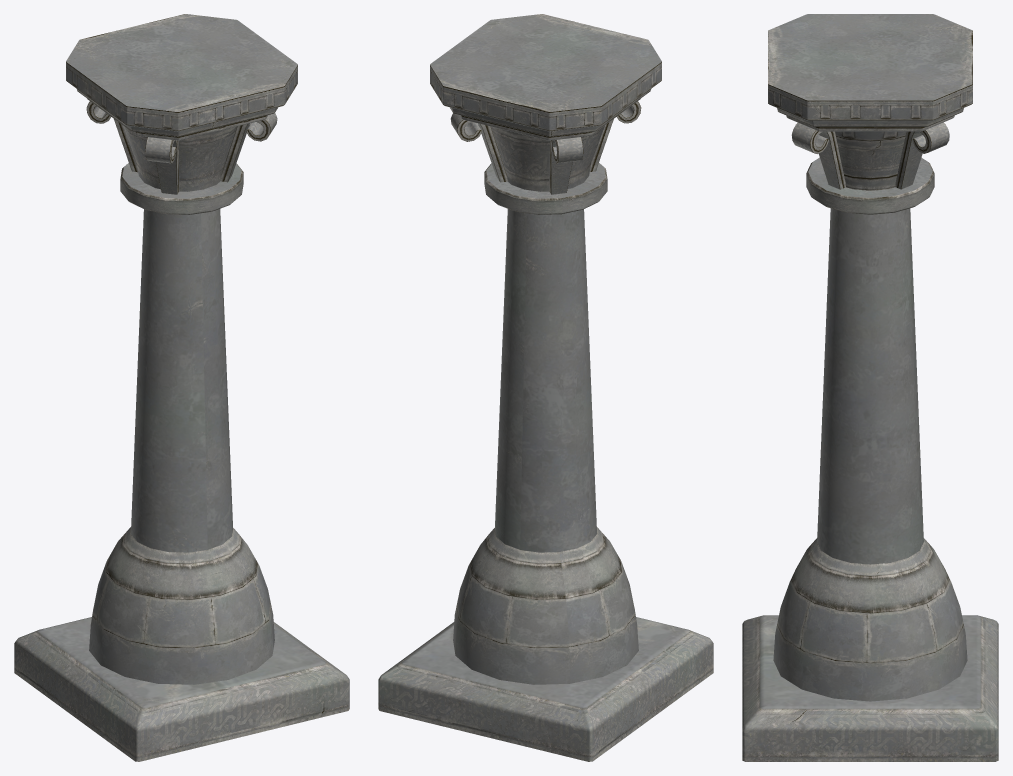
The model's file is FBX_Pillar.fbx.
3 renders of one model, left to right at view 1: azimuth 30°, elevation 25°; view 2: azimuth 150°, elevation 25°; view 3: azimuth 270°, elevation 25°, orthographic. The views are drawn at different scales.
Visible parts, largest first — view 1: Pillar, Base, BaseSphere, Top, CenterDecor, RingDecor, HookDecor_04, HookDecor_05, HookDecor_07; view 2: Pillar, Base, BaseSphere, Top, CenterDecor, RingDecor, HookDecor_07, HookDecor_06, HookDecor_04; view 3: Pillar, BaseSphere, Base, Top, RingDecor, CenterDecor, HookDecor_06, HookDecor_05.
Boxes of the visible parts, x1,y1,x2,y2 form: Pillar: (131,209,232,552); Base: (14,617,349,761); BaseSphere: (89,527,274,684); Top: (66,14,297,140); CenterDecor: (123,125,236,191); RingDecor: (120,163,243,214); HookDecor_04: (145,137,179,194); HookDecor_05: (220,113,277,182); HookDecor_07: (86,101,137,172); Pillar: (495,209,596,552); Base: (378,617,713,761); BaseSphere: (453,527,638,684); Top: (430,14,661,140); CenterDecor: (491,125,604,191); RingDecor: (484,163,607,214); HookDecor_07: (549,137,583,194); HookDecor_06: (450,113,507,182); HookDecor_04: (590,101,641,171); Pillar: (817,208,923,564); BaseSphere: (773,538,967,701); Base: (742,615,998,761); Top: (768,14,972,131); RingDecor: (806,157,934,214); CenterDecor: (835,131,906,190); HookDecor_06: (895,122,949,189); HookDecor_05: (791,122,845,189).
Size of the model in its own units: 125 by 350 by 125.
1 material, 1 textured.
